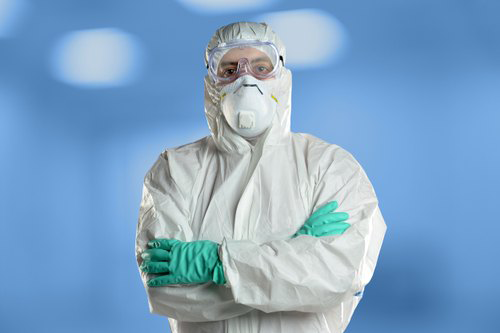Coverall: (135, 21, 385, 331)
Gloves: (139, 238, 226, 289), (294, 201, 351, 237)
Goggles: (207, 39, 283, 82)
with_mask: (221, 75, 274, 137)
